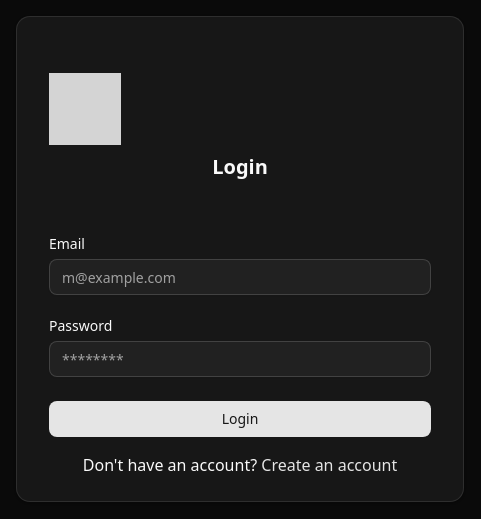
Test: LoginPage › disables submit button while submitting
Type "user@example.com" into the field with placeholder "m@example.com". click: (240, 277)
box: [49,259,431,295]
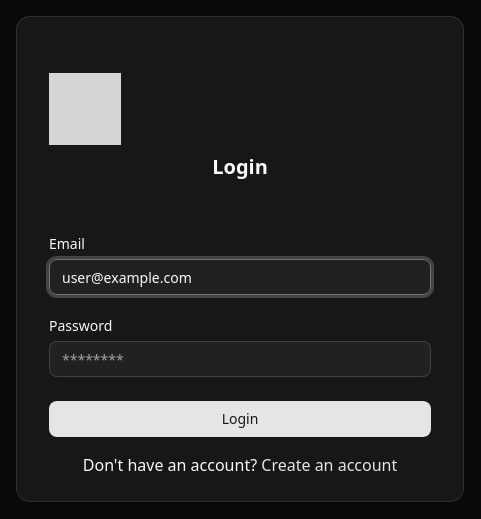
Type "password12" into the password field named "password". click: (240, 359)
box: [49,341,431,377]
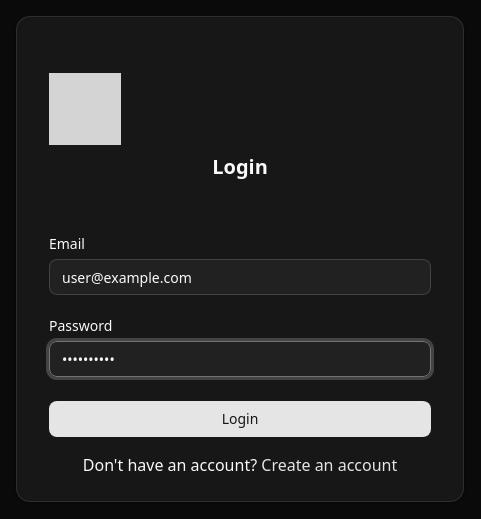
Click the button "Login". click: (240, 419)
box: [49,401,431,437]
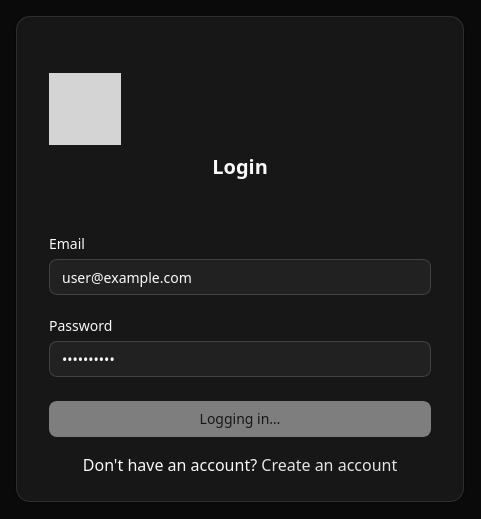
Result: the button "Logging in…" is disabled at [49,401,431,437]
